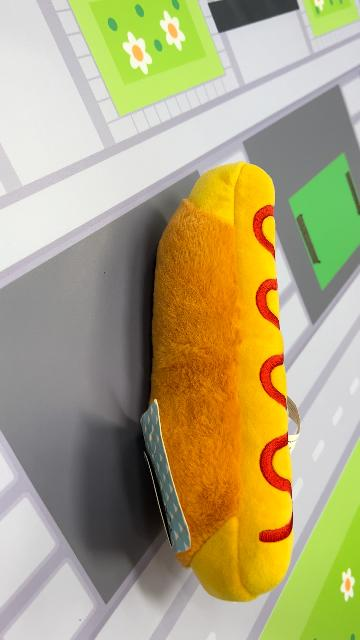hotdog: (140, 161, 296, 604)
